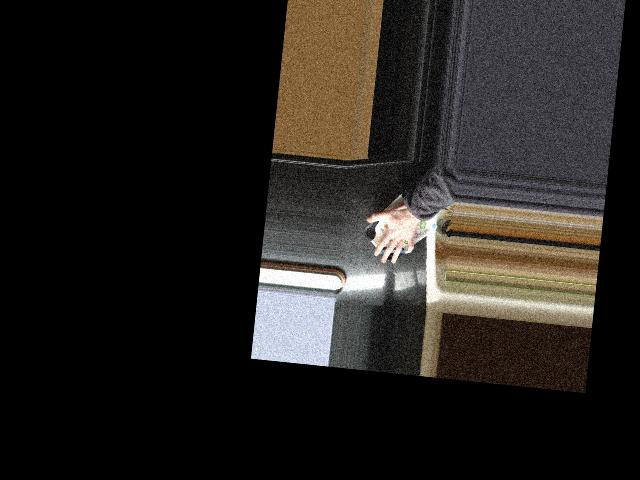cheese: (360, 185, 443, 267)
